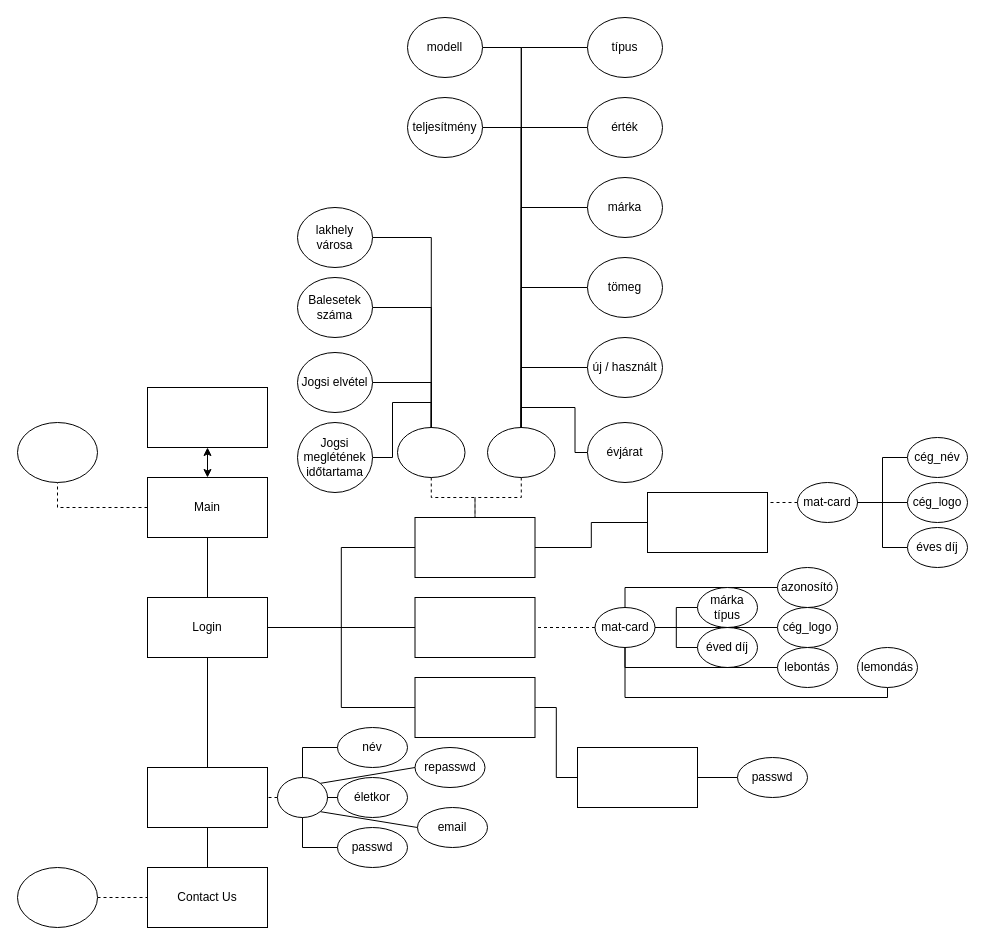
Image size: 985x945. Some labels were removed from this diagram. The shapes that lost their labels are listed below. From the top down, each one's centre as x and y in pixels, then its label:
At pixel 207 417: "About Us".
At pixel 57 452: "Bemutatós szöveg".
At pixel 430 452: "Form personal".
At pixel 520 452: "Form auto".
At pixel 707 522: "Ajánlatok".
At pixel 474 547: "Ajánlatkérés".
At pixel 474 627: "Megrendeléseim".
At pixel 474 707: "Profilom".
At pixel 207 797: "Sign Up".
At pixel 302 797: "Form".
At pixel 637 777: "Gombok adatok módosításához".
At pixel 57 897: "email telefon map".
